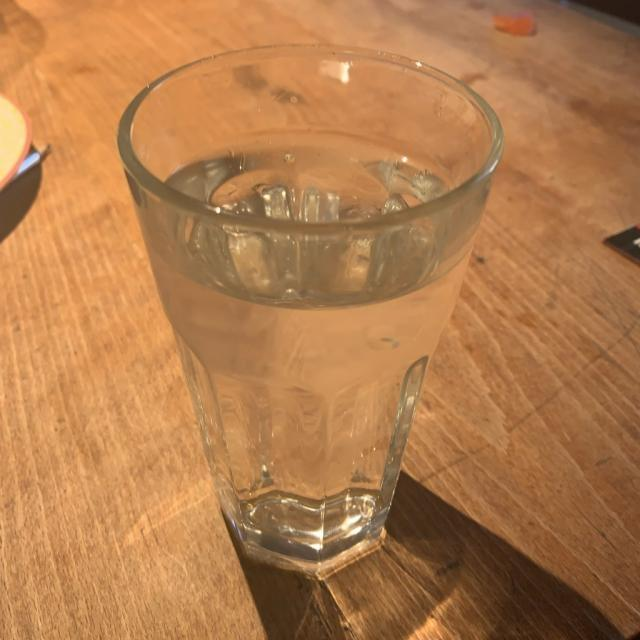water: (148, 141, 468, 552)
